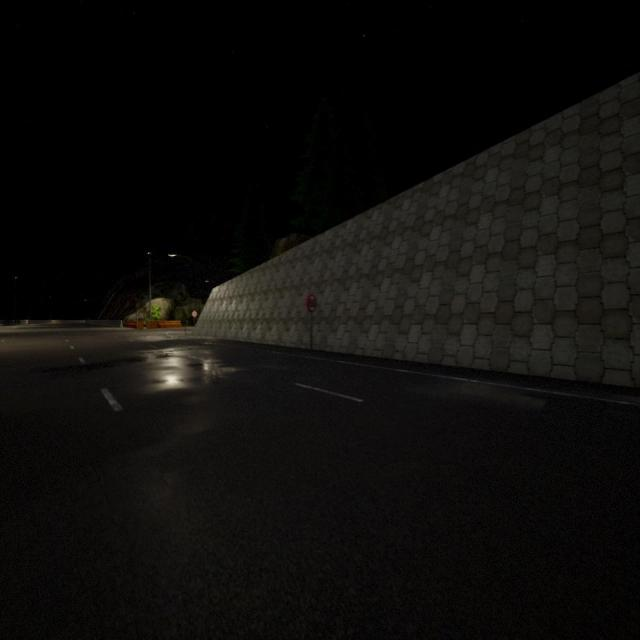Traffic_Signs: (306, 294, 317, 312), (192, 310, 198, 318), (135, 312, 140, 318)
